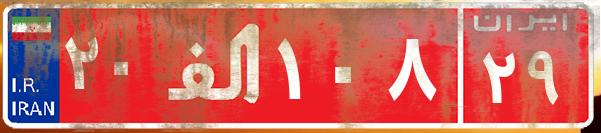0: (330, 28, 385, 110), (110, 28, 158, 105)
1: (273, 28, 330, 110)
2: (57, 26, 110, 107), (475, 38, 525, 113)
8: (385, 28, 445, 110)
9: (525, 38, 570, 115)
الف: (158, 15, 273, 115)
